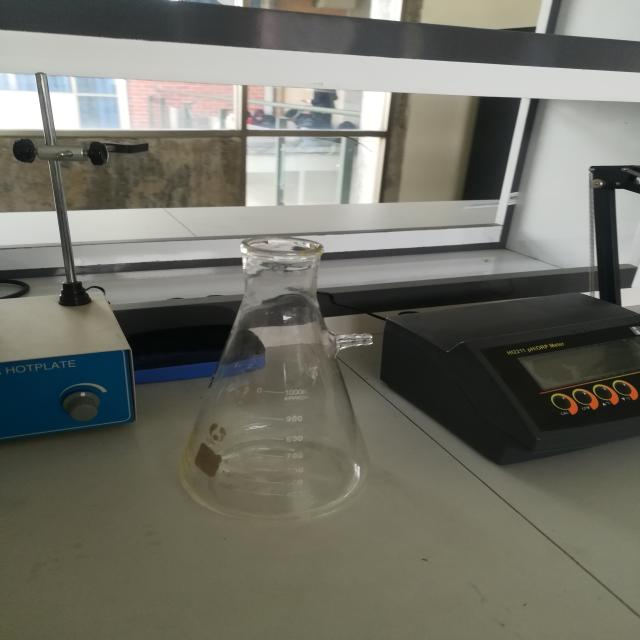Conical_Flask: (153, 197, 397, 538)
